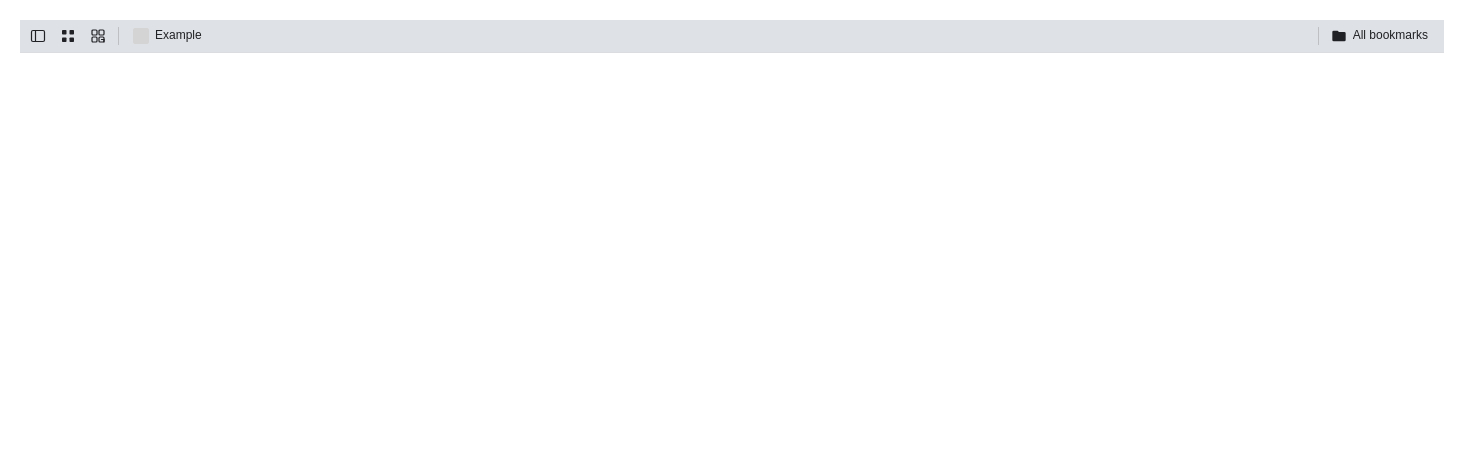
BookmarkBar › Context menu functionality › opens context menu on right-click
Right-click the button with class "bookmark-chip" showing "Example".
right_click(167, 36)  # box [125,25,210,47]
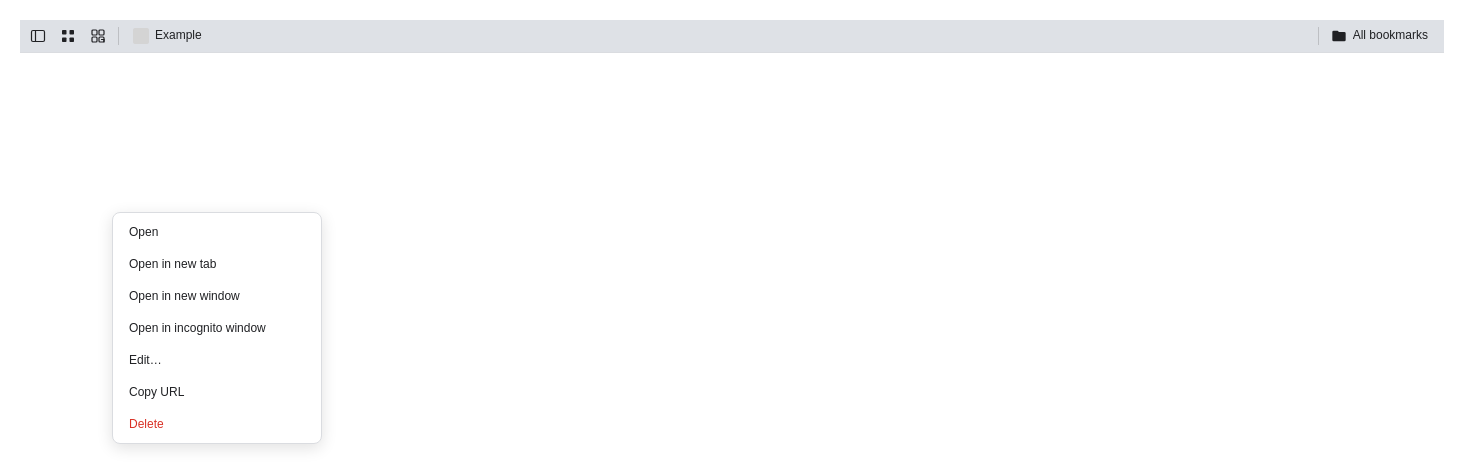
expect the menu with class "bookmark-context-menu" is shown: met, box [112,212,322,444]
